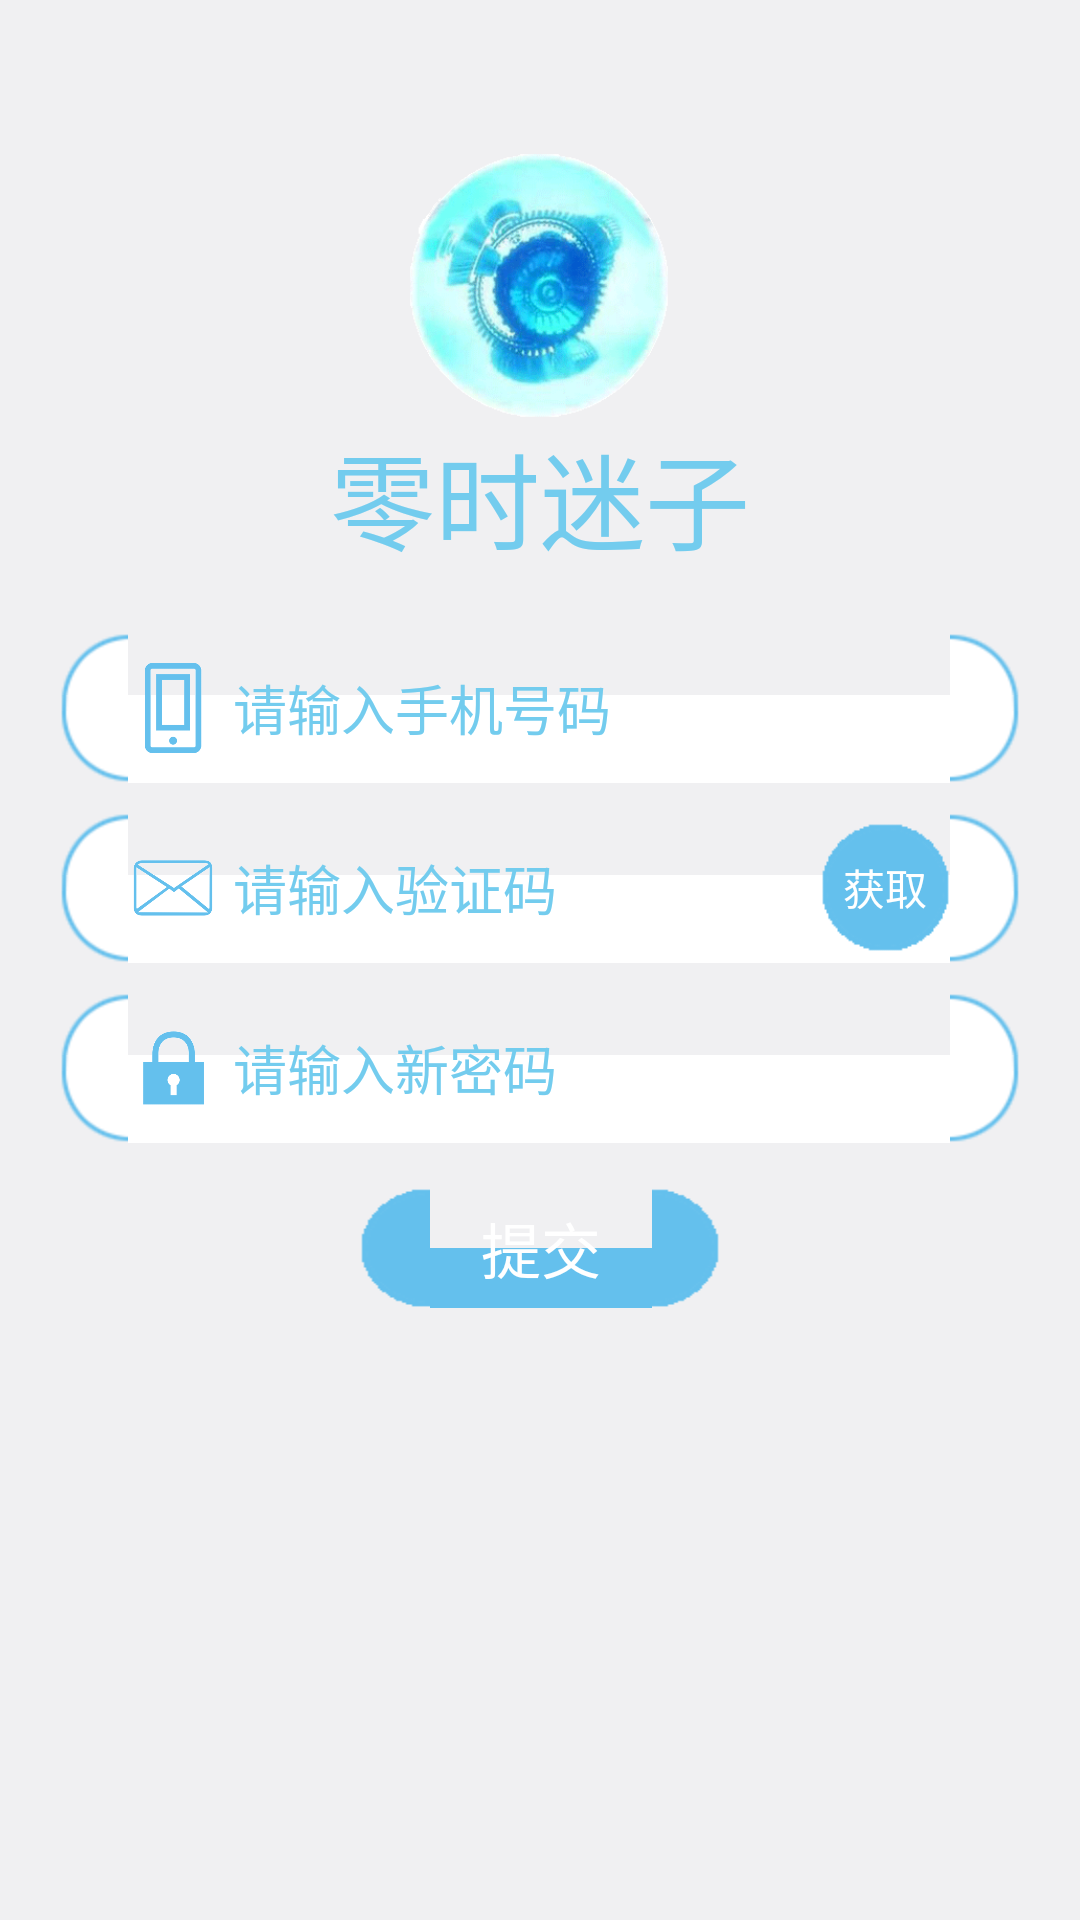

Locate icon controls on the screen. Image size 1080 × 1920, boxes as (x1, y1, x2, y2).
phone: (145, 663, 202, 753)
